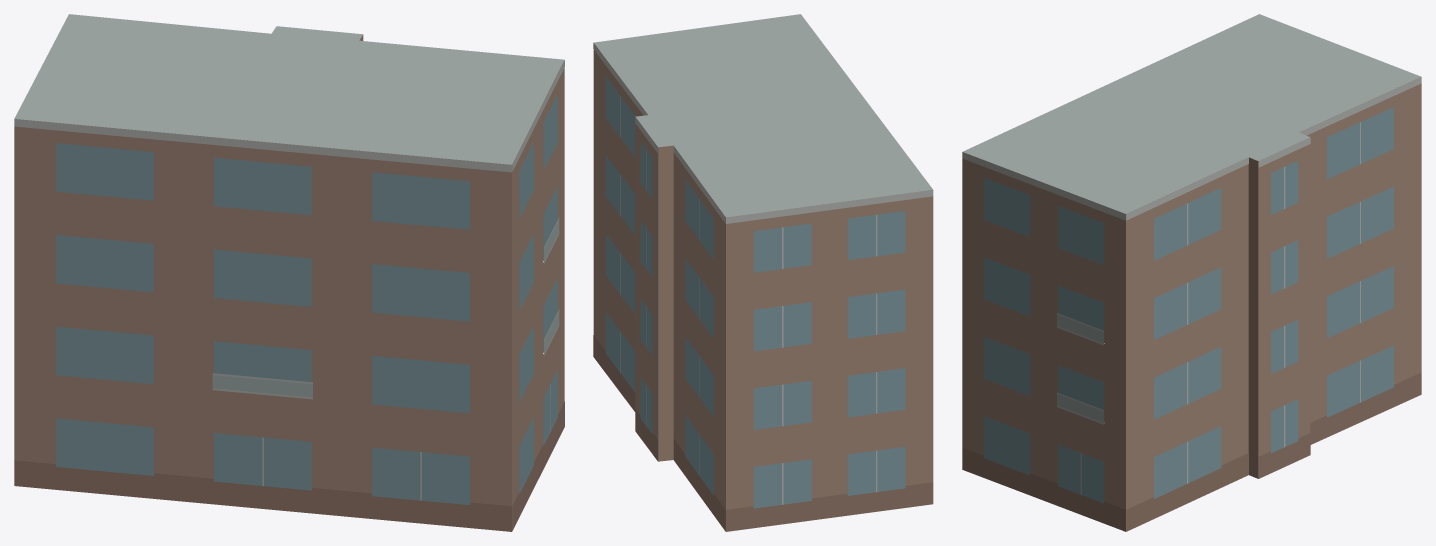
The model's file is survey-upis-32707070.glb.
The picture shows the model from 3 angles, left to right: view 1: azimuth 30°, elevation 25°; view 2: azimuth 150°, elevation 25°; view 3: azimuth 270°, elevation 25°; orthographic projection. The views are drawn at different scales.
Parts seen in each view (by area): view 1: survey-upis-32707070.tmp; view 2: survey-upis-32707070.tmp; view 3: survey-upis-32707070.tmp.
Boxes of the visible parts, x1,y1,x2,y2 form: survey-upis-32707070.tmp: [14, 14, 564, 531]; survey-upis-32707070.tmp: [593, 14, 933, 531]; survey-upis-32707070.tmp: [962, 14, 1421, 531].
Size of the model in its own units: 15.81 by 11.7 by 15.34.
